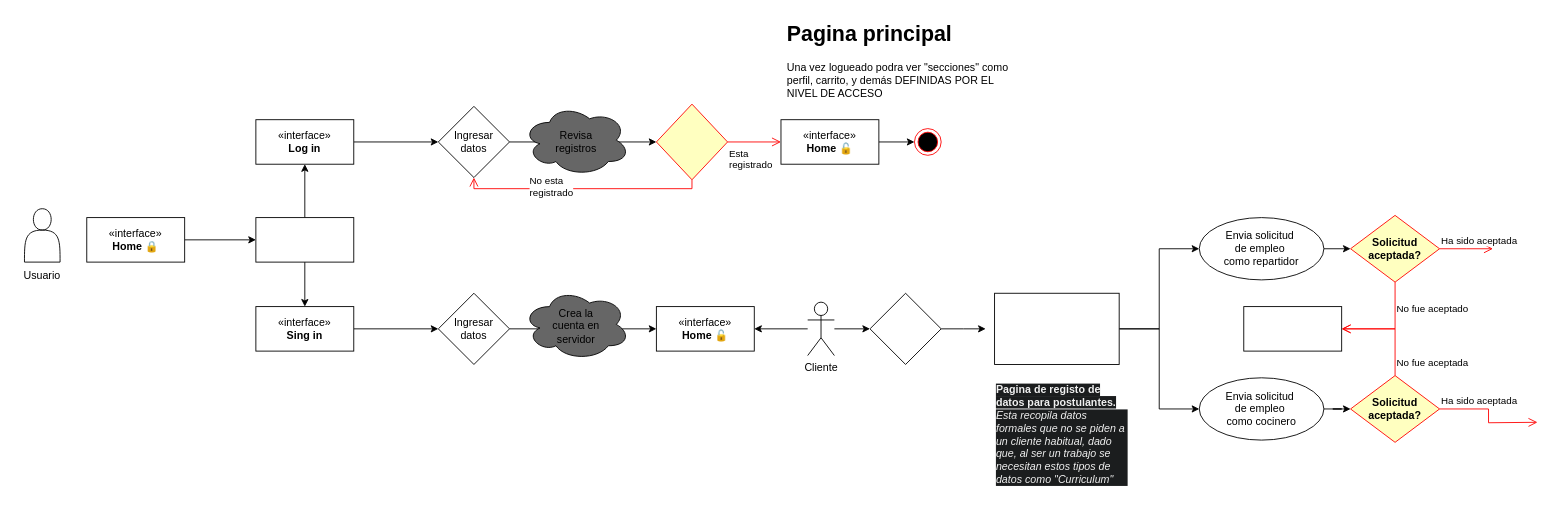
The diagram is 1562 pixels wide and 509 high, and some of its shapes have lost their labels. Each missing label, with the centre of its shape:
Solicitar empleo: (x=905, y=328)
Tiene cuenta: (x=691, y=141)
«interface» Log in/Sing in: (x=304, y=239)
«interface» Postulación para puestos (Cocinero/empleado): (x=1056, y=328)
«Message» Mensaje de error: (x=1292, y=328)
